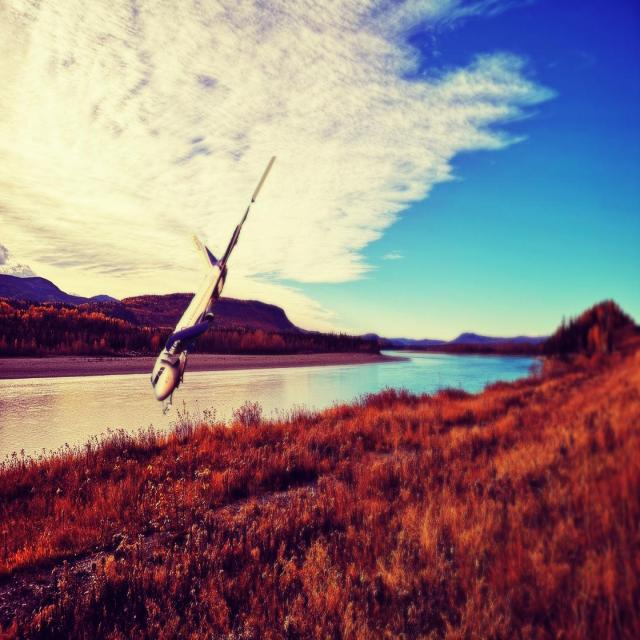airplane: (150, 155, 276, 414)
